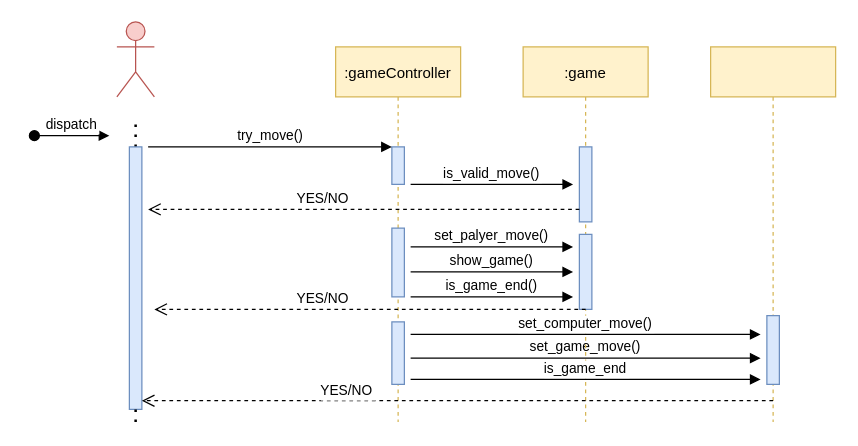
The diagram is 858 pixels wide and 446 high, and some of its shapes have lost their labels. The box of each missing label's shape, as (x1, y1, x2, y2) in pixels:
:AI: (709, 46, 836, 422)
User: (116, 21, 154, 97)
